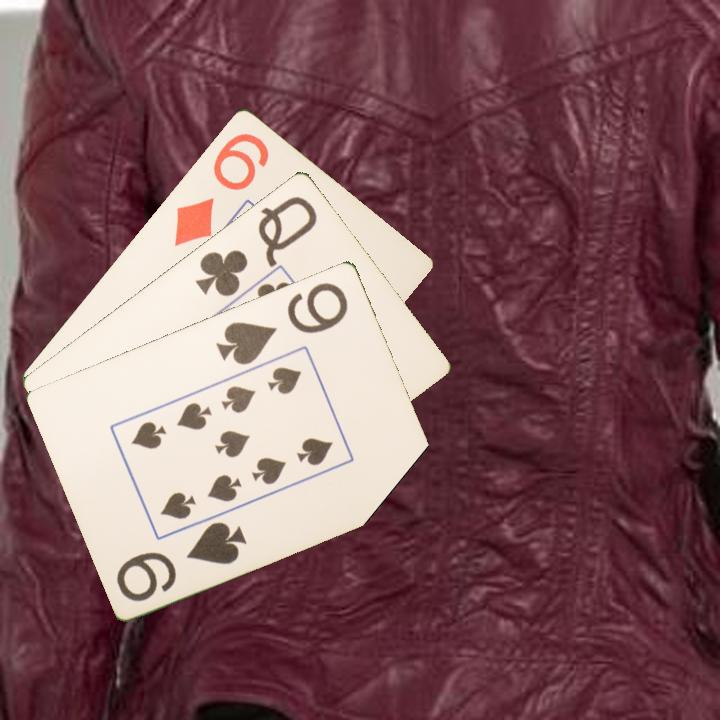6d: (170, 128, 272, 249)
9s: (212, 278, 351, 368), (113, 517, 251, 605)
Qc: (191, 191, 321, 299)
